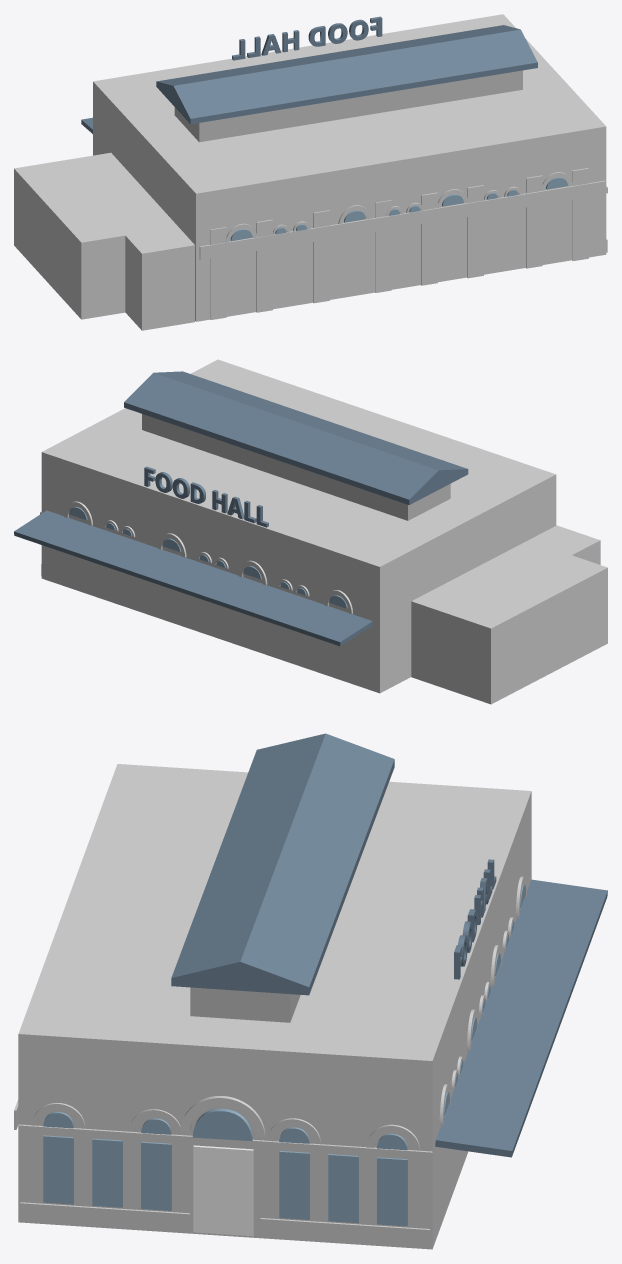
Rendered from pearl_bottling_dept.glb.
The picture shows the model from 3 angles, top to bottom: view 1: azimuth 30°, elevation 25°; view 2: azimuth 150°, elevation 25°; view 3: azimuth 270°, elevation 25°; orthographic projection. The views are drawn at different scales.
Visible parts, largest first — view 1: Building, Rectangle 2, Roof, Column (×8), Roof building, H Column, Food Hall; view 2: Building, Rectangle 2, Roof, Awning, Roof building, Food Hall; view 3: Building, Roof, Awning, window (×6), Door, Rectangle 2, Rectangle 4, Rectangle 3, Roof building, Food Hall, Ellipse, Cylinder.
Part boxes in pixels (x1,y1,x2,y2): Building: (93, 14, 606, 321); Rectangle 2: (14, 152, 194, 330); Roof: (156, 25, 537, 124); Column (×8): (210, 168, 588, 319); Roof building: (174, 70, 522, 142); H Column: (199, 180, 605, 260); Food Hall: (232, 16, 382, 60); Building: (41, 359, 556, 693); Rectangle 2: (411, 525, 607, 704); Roof: (124, 371, 468, 504); Awning: (14, 510, 372, 646); Roof building: (142, 414, 450, 520); Food Hall: (144, 466, 268, 527); Building: (18, 764, 531, 1249); Roof: (171, 733, 394, 995); Awning: (435, 879, 607, 1157); window (×6): (43, 1135, 407, 1226); Door: (193, 1145, 253, 1236); Rectangle 2: (18, 1124, 432, 1160); Rectangle 4: (260, 1218, 430, 1248); Rectangle 3: (20, 1202, 189, 1232); Roof building: (190, 987, 300, 1022); Food Hall: (454, 859, 496, 979); Ellipse: (192, 1108, 252, 1140); Cylinder: (179, 1096, 265, 1137).
Bounding box in the file's own units: 40.75 × 13.45 × 28.55.
